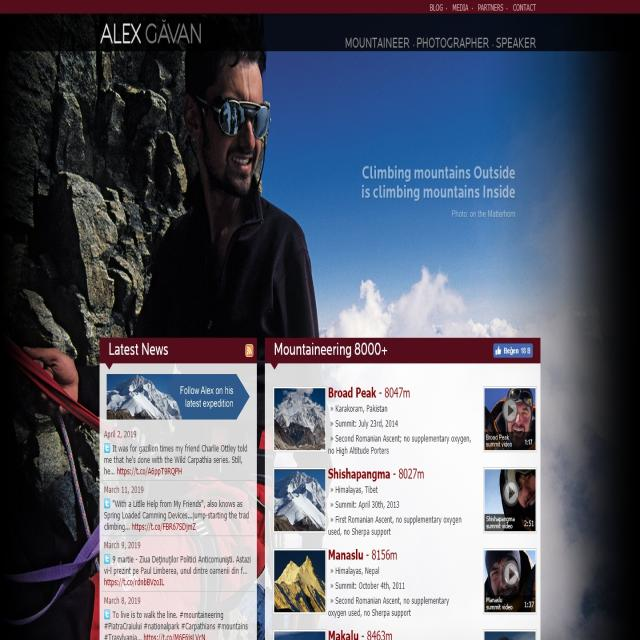button: (415, 31, 492, 52), (343, 32, 412, 52), (494, 31, 539, 52), (494, 344, 532, 359), (476, 0, 506, 14), (503, 399, 518, 426), (510, 0, 537, 14), (449, 0, 471, 16), (426, 0, 446, 15), (505, 481, 517, 504), (245, 345, 254, 357)
heading: (98, 18, 206, 50), (273, 339, 388, 359), (328, 463, 427, 482), (327, 385, 411, 400), (106, 340, 171, 357), (327, 549, 399, 561), (328, 627, 393, 640)
image: (108, 373, 251, 421), (274, 550, 326, 614), (484, 388, 536, 451), (274, 386, 324, 451), (484, 469, 536, 531), (484, 549, 535, 612), (274, 468, 324, 531), (103, 443, 111, 454), (104, 553, 111, 564), (105, 609, 110, 619), (105, 498, 110, 508)
label: (451, 207, 517, 221)
link: (115, 464, 183, 477), (130, 520, 197, 533), (104, 576, 165, 587), (142, 631, 206, 640)
text: (360, 162, 518, 204), (103, 497, 250, 533), (103, 552, 252, 587), (104, 442, 248, 477), (103, 607, 250, 640), (328, 435, 472, 454), (328, 597, 450, 619), (328, 516, 462, 536), (330, 418, 399, 430), (330, 580, 406, 590), (329, 500, 402, 510), (330, 403, 389, 414), (329, 566, 382, 576), (103, 484, 145, 496), (330, 485, 379, 495), (104, 595, 141, 606), (103, 429, 138, 440), (104, 540, 141, 550)
